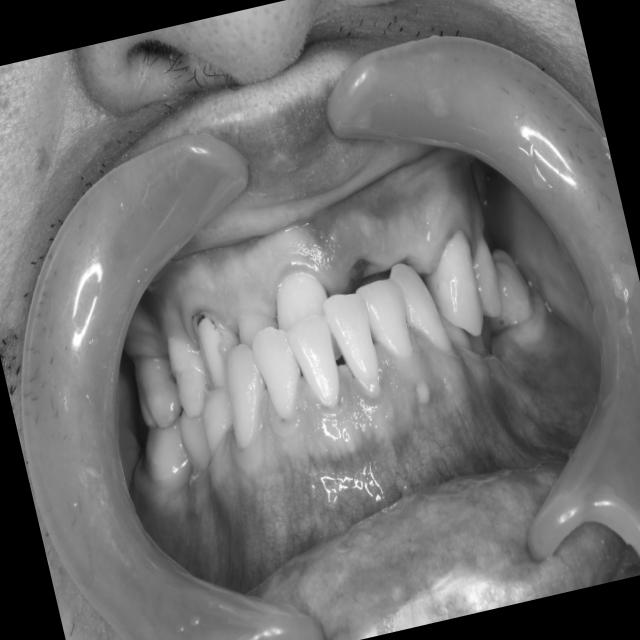tooth: (410, 216, 500, 358), (276, 301, 359, 426), (254, 248, 343, 360), (318, 280, 394, 409), (344, 266, 430, 376), (380, 241, 456, 365), (237, 320, 316, 434), (213, 334, 283, 455), (118, 334, 191, 442), (153, 325, 225, 425), (184, 300, 250, 399), (134, 413, 201, 500), (484, 241, 542, 333), (224, 296, 290, 372), (462, 228, 512, 327), (165, 397, 221, 483), (190, 384, 247, 464), (432, 299, 480, 371), (462, 318, 494, 371)
